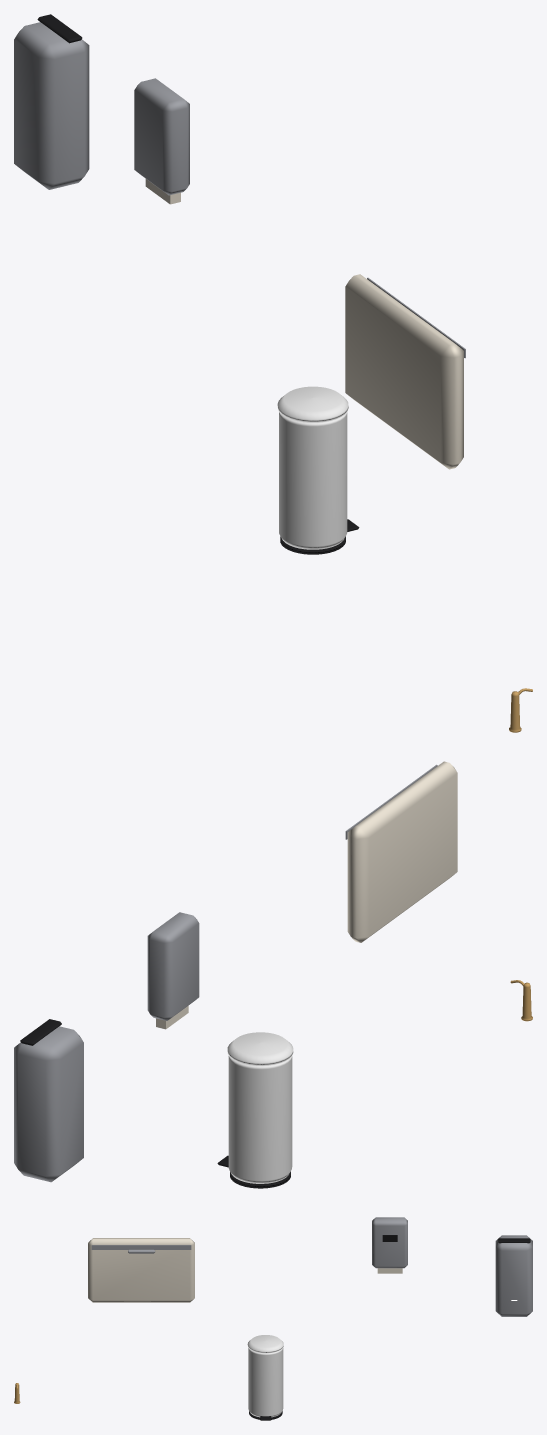
The model's file is restroom_set.glb.
The picture shows the model from 3 angles, top to bottom: view 1: azimuth 30°, elevation 25°; view 2: azimuth 150°, elevation 25°; view 3: azimuth 270°, elevation 25°; orthographic projection. The views are drawn at different scales.
Visible parts, largest first — view 1: Mesh_BabyBody, Mesh_DryerBody, Mesh_BinBody, Mesh_TowelBody, Mesh_BinLid; view 2: Mesh_BabyBody, Mesh_DryerBody, Mesh_BinBody, Mesh_TowelBody, Mesh_BinLid; view 3: Mesh_BabyBody, Mesh_DryerBody, Mesh_BinBody, Mesh_TowelBody, Mesh_BinLid, Mesh_BabyBand.
Boxes of the visible parts, x1,y1,x2,y2 form: Mesh_BabyBody: [345, 274, 463, 469]; Mesh_DryerBody: [14, 22, 89, 189]; Mesh_BinBody: [279, 412, 347, 549]; Mesh_TowelBody: [134, 78, 189, 195]; Mesh_BinLid: [277, 386, 348, 422]; Mesh_BabyBody: [347, 761, 457, 942]; Mesh_DryerBody: [14, 1026, 83, 1182]; Mesh_BinBody: [228, 1056, 292, 1183]; Mesh_TowelBody: [147, 912, 199, 1020]; Mesh_BinLid: [227, 1032, 293, 1065]; Mesh_BabyBody: [88, 1238, 194, 1302]; Mesh_DryerBody: [495, 1235, 532, 1316]; Mesh_BinBody: [248, 1348, 283, 1417]; Mesh_TowelBody: [372, 1217, 407, 1268]; Mesh_BinLid: [247, 1335, 283, 1353]; Mesh_BabyBand: [91, 1245, 191, 1249].
Bounding box in the file's own units: 0.421 × 1.66 × 4.18.
